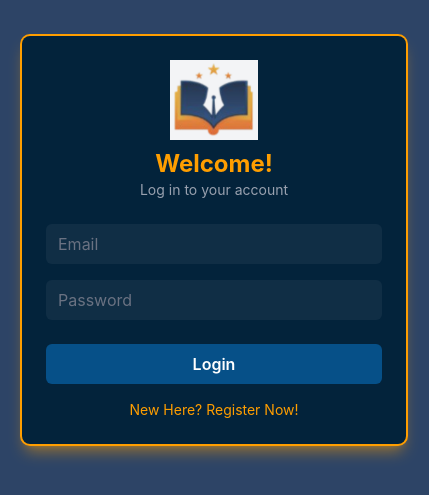
Test: Login Component Tests › I see a clear error message when Supabase authentication fails
The image size is (429, 495).
Type "wrong@u.nus.edu" into the field with placeholder "Email" at (214, 244), box [46,224,382,264]
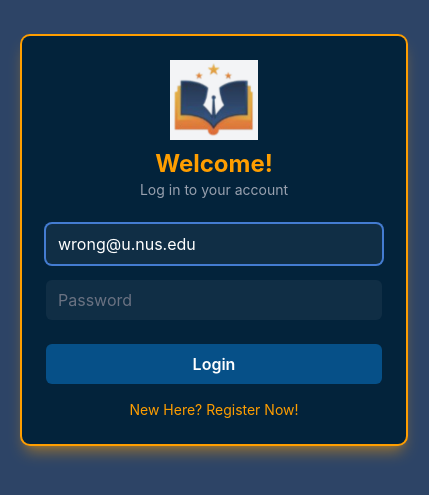
Type "wrongPassword" into the password field with placeholder "Password" at (214, 300), box [46,280,382,320]
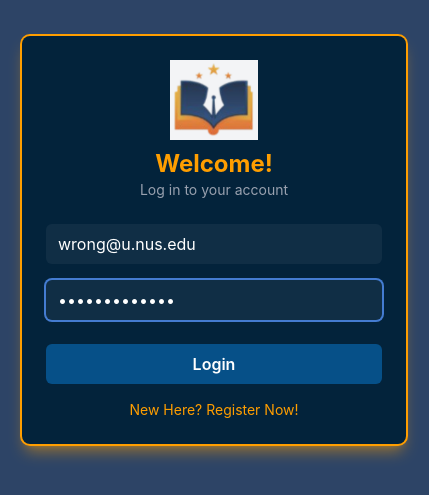
Click the button "Login" at (214, 364), box [46,344,382,384]
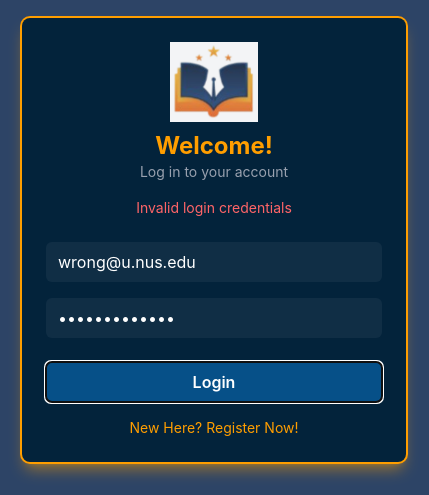
Now the text "Invalid login credentials" is shown, box [136,199,292,216]
